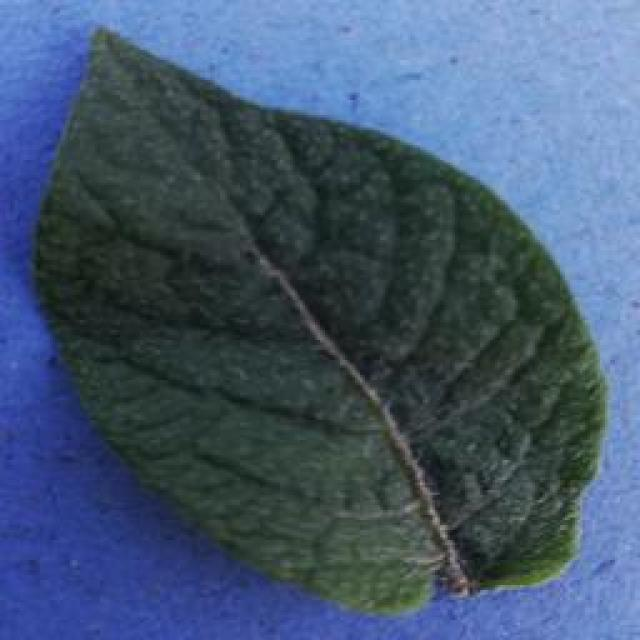Potato_Healthy: (36, 23, 602, 611)
